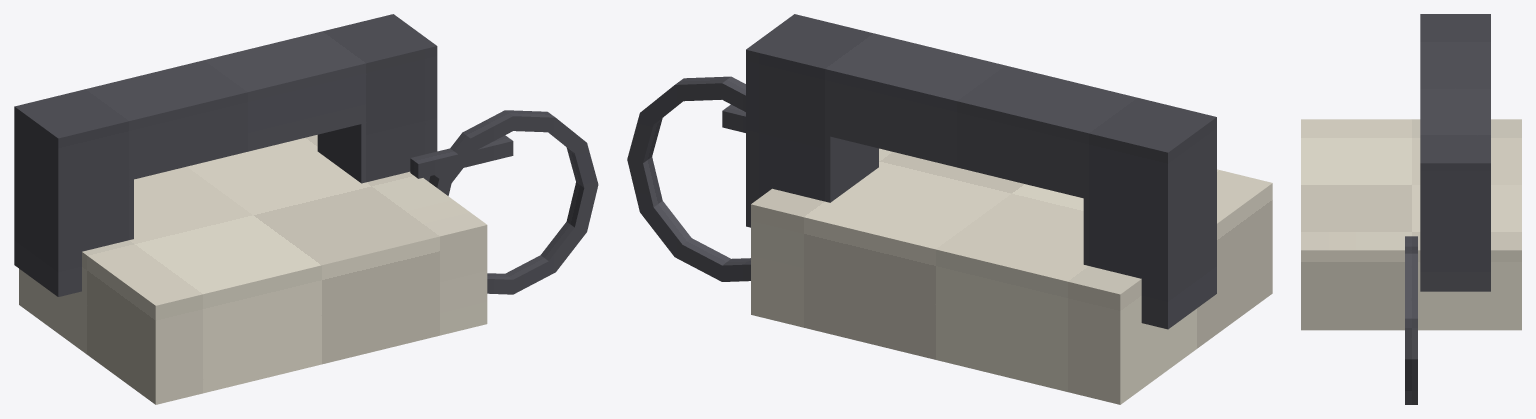
Rendered from retro-arcade-and-mall-1989-corded-phone-2669a683__15563.glb.
3 views of the same model, side by side, from view 1: azimuth 30°, elevation 25°; view 2: azimuth 150°, elevation 25°; view 3: azimuth 270°, elevation 25° (orthographic). The views are drawn at different scales.
Parts seen in each view (by area): view 1: corded-phone; view 2: corded-phone; view 3: corded-phone.
Part boxes in pixels (x1,y1,x2,y2): corded-phone: [14, 14, 598, 404]; corded-phone: [627, 14, 1272, 404]; corded-phone: [1301, 14, 1521, 404].
Size of the model in its own units: 0.56 by 0.26 by 0.25.
2 materials, 2 textured.
